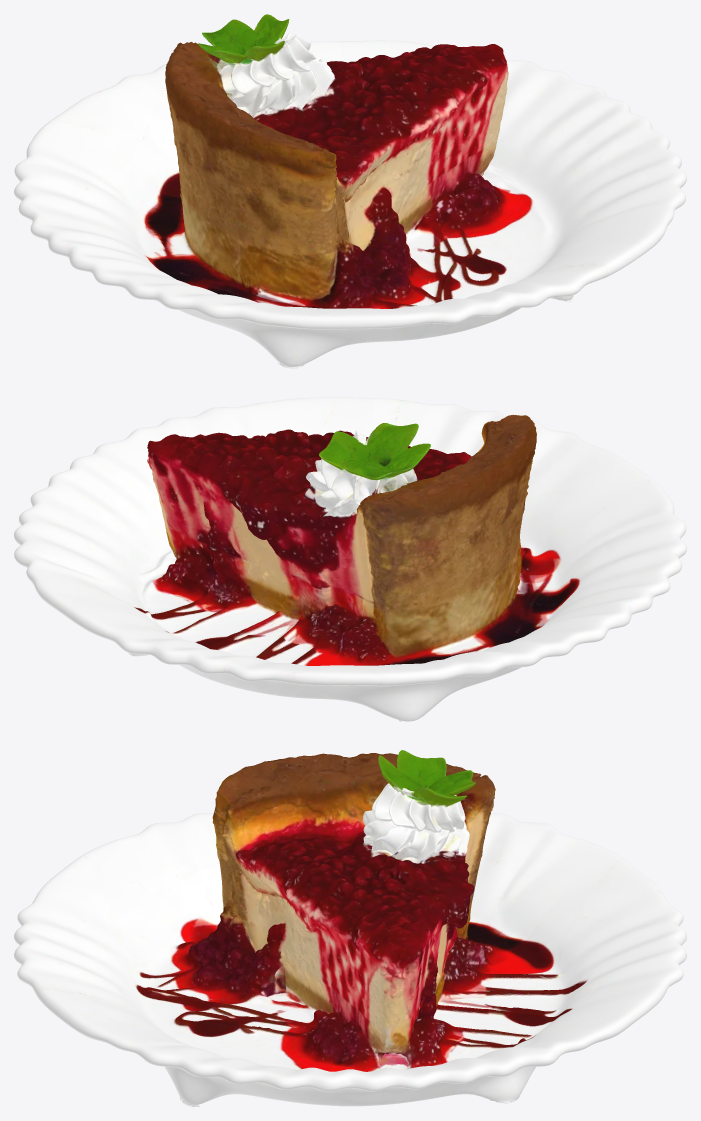
File: Raspberry_drizzled_cheese_cake.glb
3 views of the same model, one above another, from view 1: azimuth 30°, elevation 25°; view 2: azimuth 150°, elevation 25°; view 3: azimuth 270°, elevation 25° (orthographic).
Size of the model in its own units: 1.9 by 0.7484 by 1.9.
Materials: 1 (1 with a texture image).
